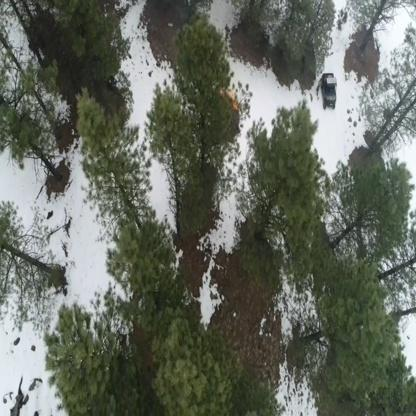Fire: (232, 101, 238, 111)
